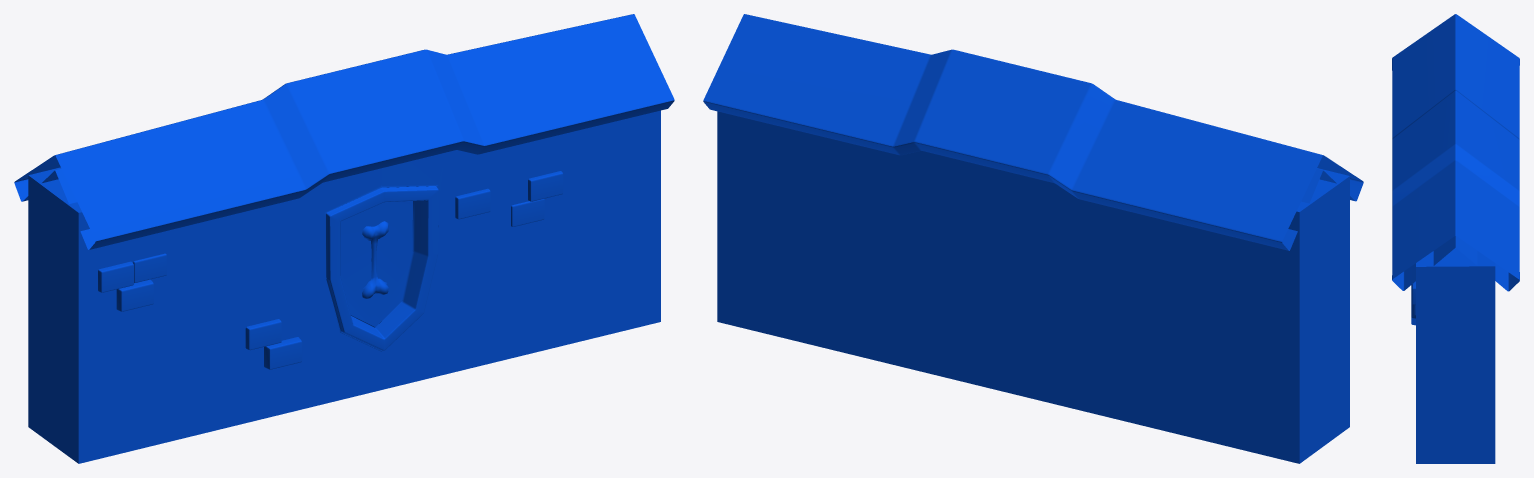
File: Wall_LowRes_V2.fbx
3 views of the same model, side by side, from view 1: azimuth 30°, elevation 25°; view 2: azimuth 150°, elevation 25°; view 3: azimuth 270°, elevation 25° (orthographic). The views are drawn at different scales.
Visible parts, largest first — view 1: WallSegment, Roof, Bricks; view 2: WallSegment, Roof; view 3: Roof, WallSegment.
Part boxes in pixels (x1,y1,x2,y2): WallSegment: [28, 110, 660, 463]; Roof: [14, 14, 674, 249]; Bricks: [98, 171, 563, 369]; WallSegment: [717, 111, 1349, 463]; Roof: [703, 14, 1363, 250]; Roof: [1392, 14, 1519, 291]; WallSegment: [1411, 247, 1495, 463].
Size of what is drawn, in the model's own units: 10 by 5.01 by 2.42.
